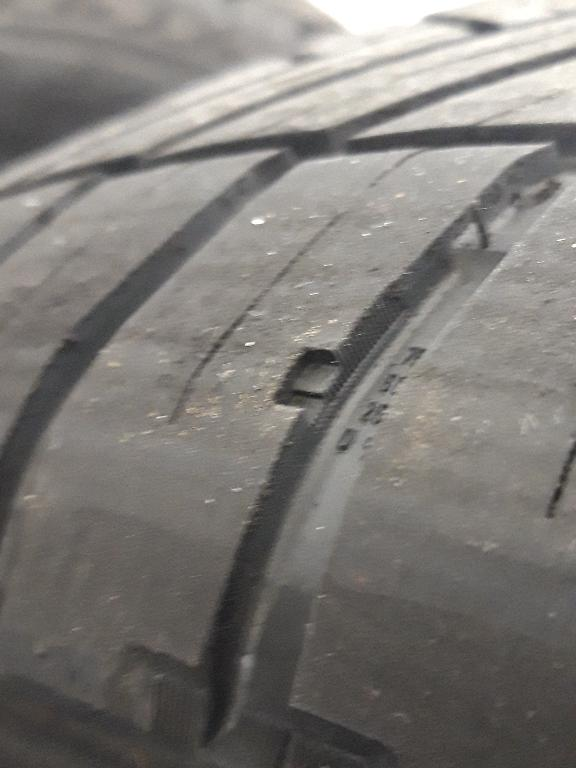temoin:50: (263, 312, 384, 454)
